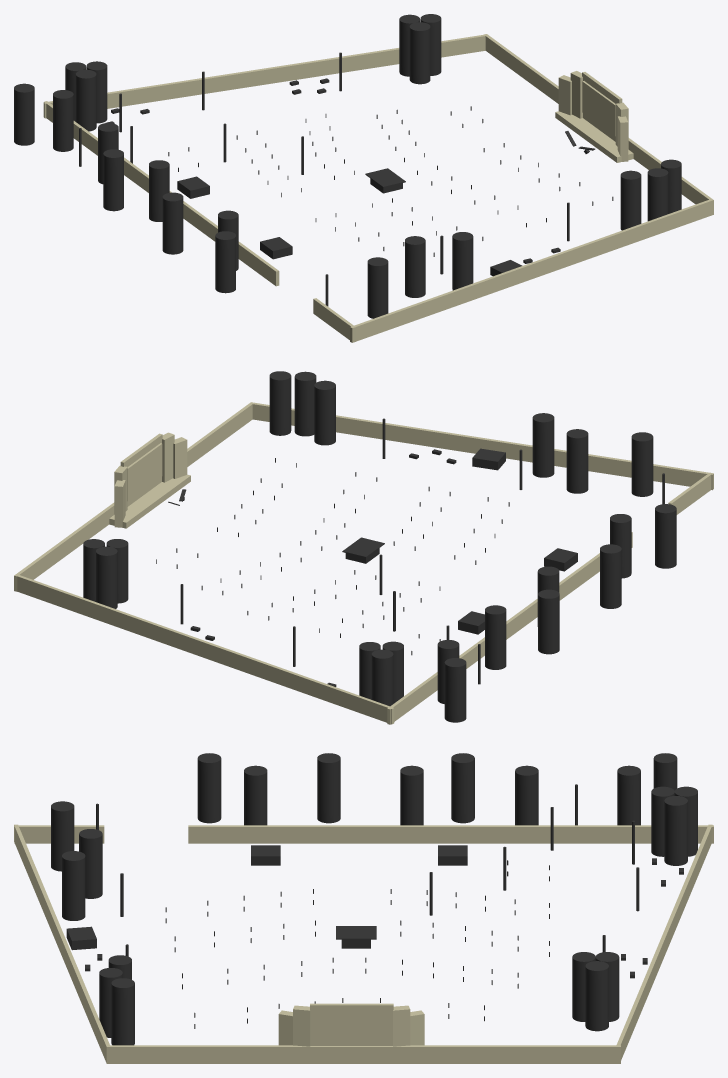
Rendered from Drive-in.fbx.
3 renders of one model, top to bottom at view 1: azimuth 30°, elevation 25°; view 2: azimuth 150°, elevation 25°; view 3: azimuth 270°, elevation 25°, orthographic. The views are drawn at different scales.
Visible parts, largest first — view 1: Shape_Cube9, Shape_Cube10_1, Shape_Cube11, Shape_Cube8_13, Cylinder20, Cylinder113, Cylinder_85, Cylinder116, Cylinder114, Cylinder115, Cylinder2, Cylinder109 (+18 smaller); view 2: Shape_Cube10_1, Shape_Cube9, Shape_Cube8_13, Shape_Cube11, Cylinder_85, Cylinder2, Cylinder3, Cylinder116, Cylinder7, Cylinder9, Cylinder115, Cylinder114 (+20 smaller); view 3: Shape_Cube8_13, Shape_Cube11, Shape_Cube2, Shape_Cube9, Shape_Cube10_1, Cylinder115, Cylinder113, Cylinder114, Cylinder22, Cylinder3, Cylinder12, Cylinder7 (+21 smaller).
Part boxes in pixels (x1,y1,x2,y2): Shape_Cube9: (350,199,712,342); Shape_Cube10_1: (43,34,485,118); Shape_Cube11: (44,101,279,286); Shape_Cube8_13: (484,34,713,214); Cylinder20: (409,22,430,84); Cylinder113: (162,192,183,254); Cylinder_85: (367,257,388,318); Cylinder116: (14,83,34,145); Cylinder114: (103,149,123,211); Cylinder115: (215,231,235,293); Cylinder2: (405,236,425,297); Cylinder109: (53,90,73,151); Shape_Cube10_1: (17,575,394,724); Shape_Cube9: (251,402,713,490); Shape_Cube8_13: (14,402,253,591); Shape_Cube11: (387,532,632,724); Cylinder_85: (631,432,653,496); Cylinder2: (566,429,588,493); Cylinder3: (532,413,554,477); Cylinder116: (444,658,466,722); Cylinder7: (269,371,291,435); Cylinder9: (314,380,335,445); Cylinder115: (655,504,676,568); Cylinder114: (538,589,559,654); Shape_Cube8_13: (106,1045,620,1063); Shape_Cube11: (188,825,713,843); Shape_Cube2: (310,1003,393,1045); Shape_Cube9: (14,824,110,1062); Shape_Cube10_1: (616,824,712,1060); Cylinder115: (197,753,221,823); Cylinder113: (317,753,340,823); Cylinder114: (451,753,474,823); Cylinder22: (585,961,608,1031); Cylinder3: (62,851,85,920); Cylinder12: (664,796,687,865); Cylinder7: (111,978,134,1045).
Size of what is drawn, in the model's own units: 14438 by 17115 by 1710.
